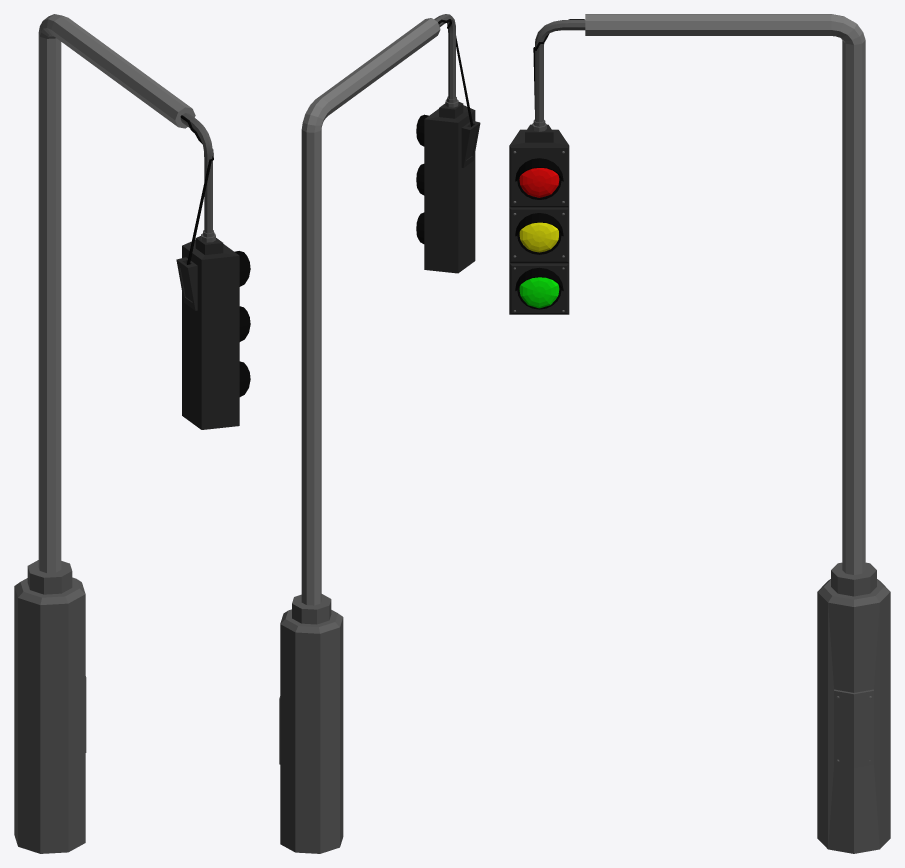
The model's file is Traffic Light.fbx.
The picture shows the model from 3 angles, left to right: view 1: azimuth 30°, elevation 25°; view 2: azimuth 150°, elevation 25°; view 3: azimuth 270°, elevation 25°; orthographic projection. The views are drawn at different scales.
Visible parts, largest first — view 1: Base; view 2: Base; view 3: Base, Green, Red, Yellow.
Boxes of the visible parts, left/top/right/bottom form: Base: left=14, top=14, right=250, bottom=853; Base: left=279, top=14, right=480, bottom=853; Base: left=509, top=14, right=890, bottom=853; Green: left=519, top=277, right=559, bottom=308; Red: left=519, top=168, right=559, bottom=197; Yellow: left=519, top=222, right=558, bottom=252.
Size of the model in its own units: 34.41 by 405 by 170.
